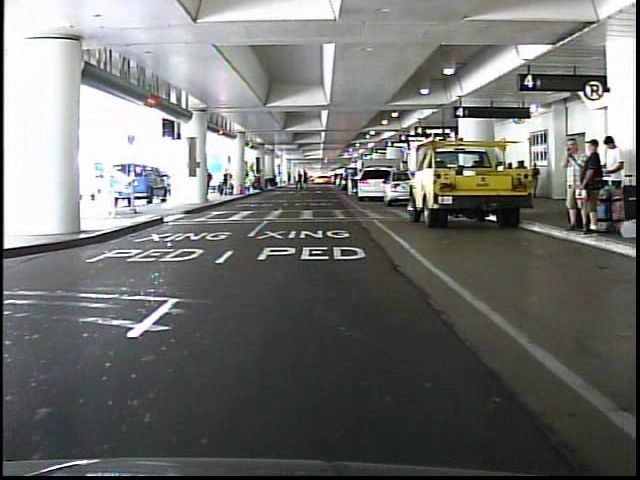person: (555, 137, 583, 232)
